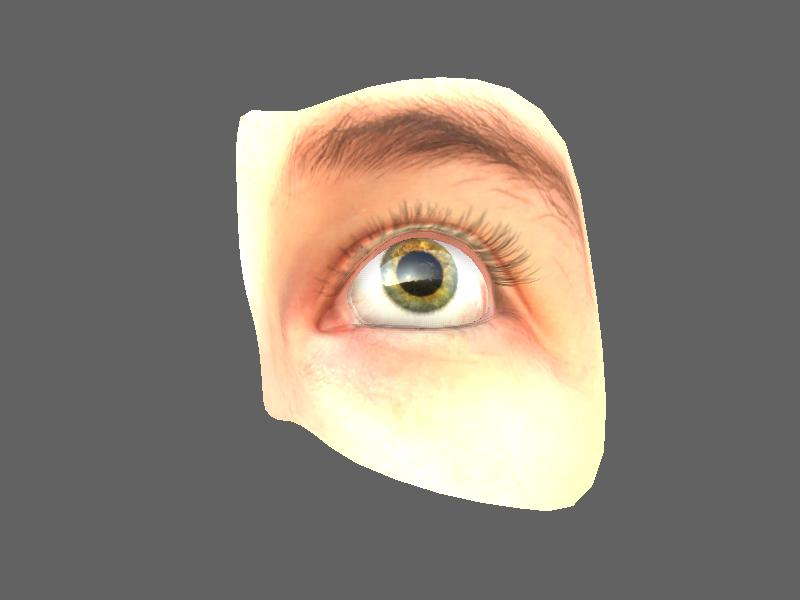iris: (377, 232, 462, 312)
